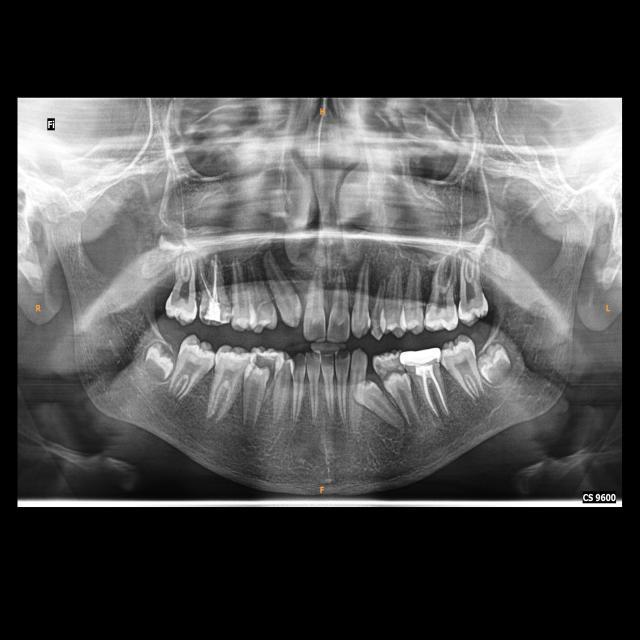dentin-curugu: (255, 354, 278, 374)
dolgu: (202, 299, 224, 326)
kanal-tedavisi: (419, 372, 449, 419), (199, 255, 220, 298), (460, 294, 488, 316)
kaplama: (401, 351, 441, 371)
